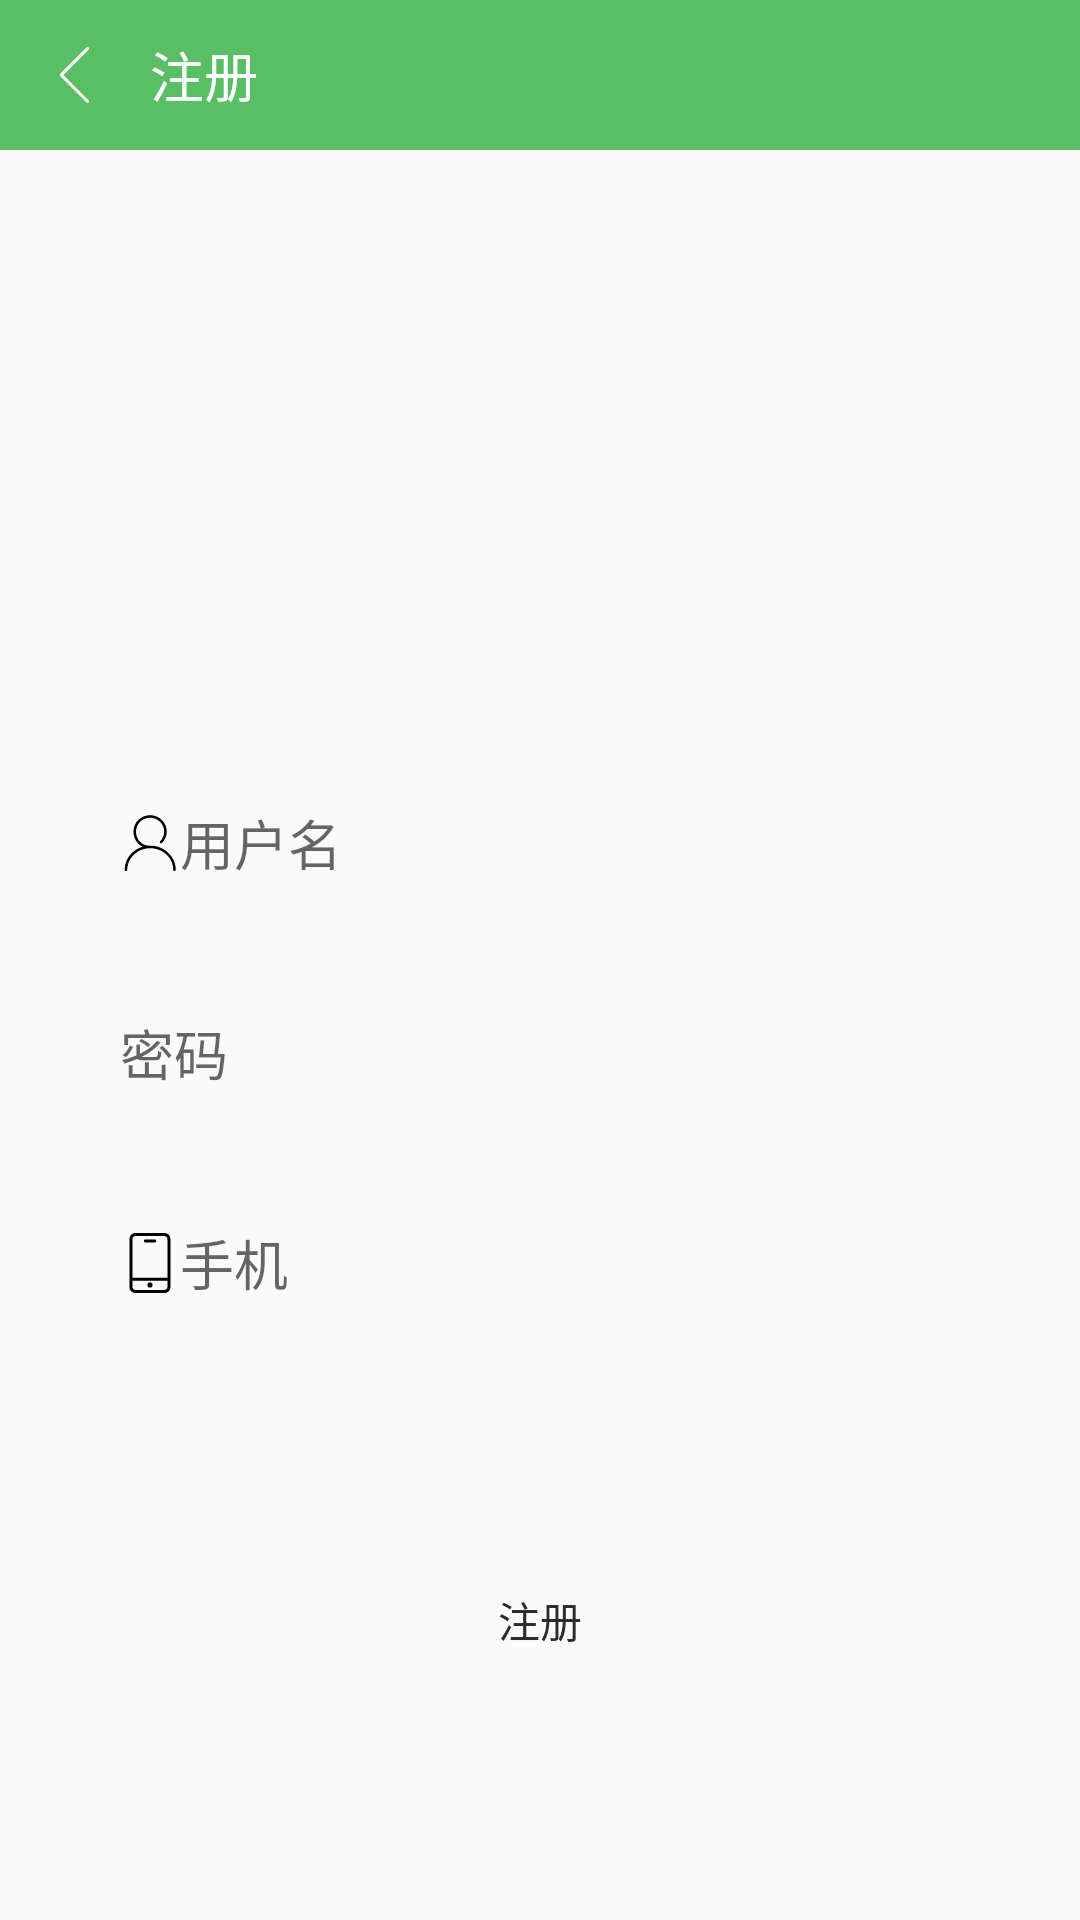

Where to tap for icons on this 1080×1920 app screen, as (x,y):
back: (74,75)
